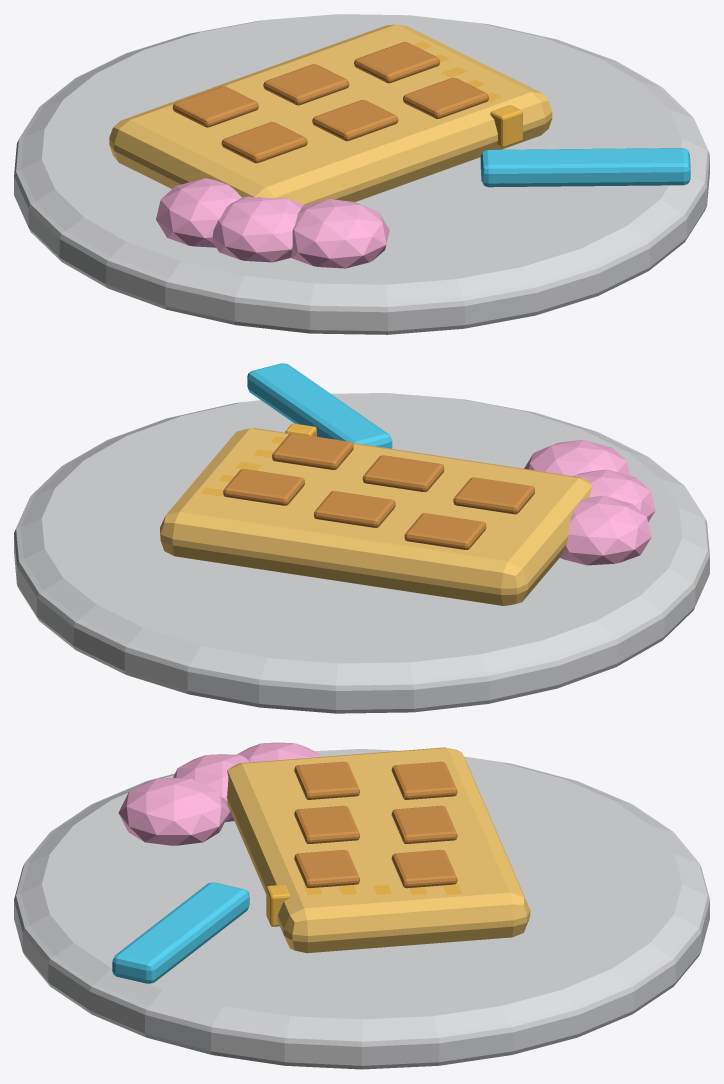
The model's file is ssd_schnitzel.glb.
3 views of the same model, one above another, from view 1: azimuth 30°, elevation 25°; view 2: azimuth 150°, elevation 25°; view 3: azimuth 270°, elevation 25° (orthographic).
Parts seen in each view (by area): view 1: Plate, SSD cutlet, Data cream, Chip, RAM stick, Contact; view 2: Plate, SSD cutlet, Chip, Data cream, RAM stick, Contact; view 3: Plate, SSD cutlet, Chip, Data cream, RAM stick, Contact.
Part boxes in pixels (x1=…): Plate: x1=14, y1=14, x2=709, y2=334; SSD cutlet: x1=109, y1=24, x2=552, y2=205; Data cream: x1=156, y1=178, x2=389, y2=268; Chip: x1=172, y1=42, x2=488, y2=163; RAM stick: x1=480, y1=148, x2=690, y2=187; Contact: x1=413, y1=41, x2=522, y2=147; Plate: x1=14, y1=393, x2=709, y2=713; SSD cutlet: x1=160, y1=428, x2=592, y2=605; Chip: x1=223, y1=433, x2=534, y2=549; Data cream: x1=524, y1=439, x2=655, y2=565; RAM stick: x1=247, y1=363, x2=392, y2=448; Contact: x1=201, y1=423, x2=316, y2=496; Plate: x1=14, y1=749, x2=709, y2=1069; SSD cutlet: x1=227, y1=747, x2=530, y2=953; Chip: x1=294, y1=761, x2=457, y2=888; Data cream: x1=118, y1=742, x2=323, y2=845; RAM stick: x1=112, y1=882, x2=249, y2=983; Contact: x1=266, y1=884, x2=461, y2=926.
Size of the model in its own units: 1 by 0.1475 by 1.
